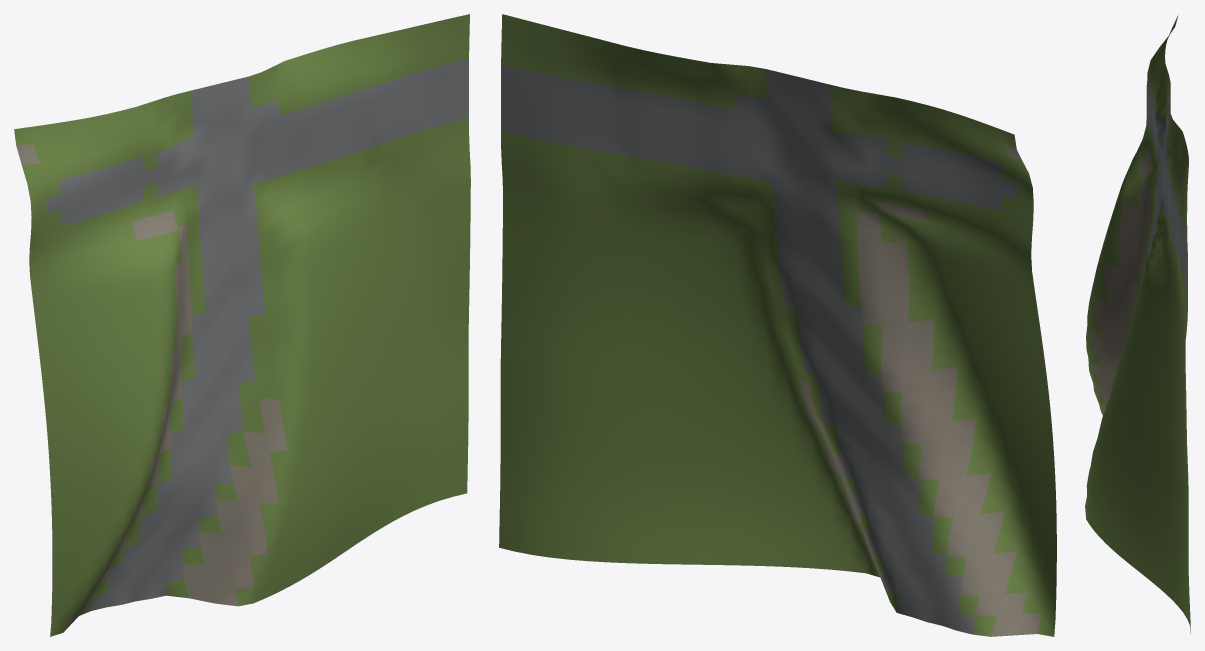
Rendered from island_terrain_16_07.obj.
3 renders of one model, left to right at view 1: azimuth 30°, elevation 25°; view 2: azimuth 150°, elevation 25°; view 3: azimuth 270°, elevation 25°, orthographic. The views are drawn at different scales.
Visible parts, largest first — view 1: island_terrain_16_07; view 2: island_terrain_16_07; view 3: island_terrain_16_07.
Boxes of the visible parts, bbox=[...] form: island_terrain_16_07: bbox=[14, 14, 470, 636]; island_terrain_16_07: bbox=[499, 14, 1056, 636]; island_terrain_16_07: bbox=[1085, 15, 1190, 633].
Bounding box in the file's own units: 256 × 256 × 57.84.
